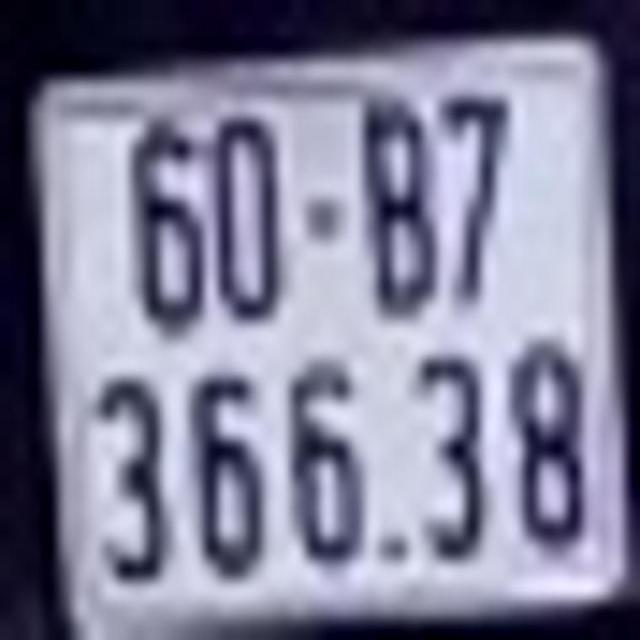0: (213, 116, 283, 318)
3: (412, 358, 481, 558), (100, 385, 164, 584)
6: (288, 366, 364, 556), (131, 131, 207, 320), (196, 380, 264, 583)
7: (446, 98, 509, 306)
8: (516, 344, 584, 544)
B: (365, 107, 438, 312)
